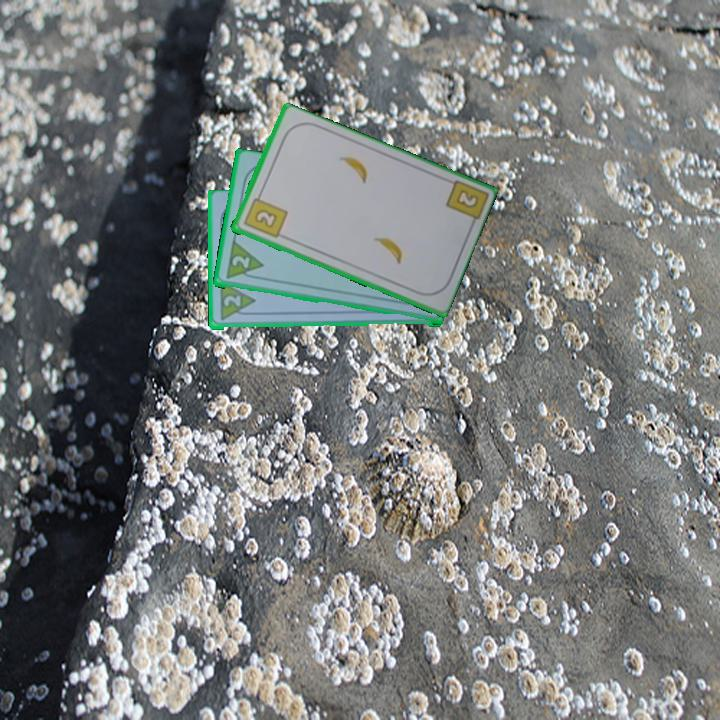2b: (240, 189, 290, 241), (452, 186, 481, 211)
2p: (228, 252, 252, 272), (220, 292, 243, 310)
